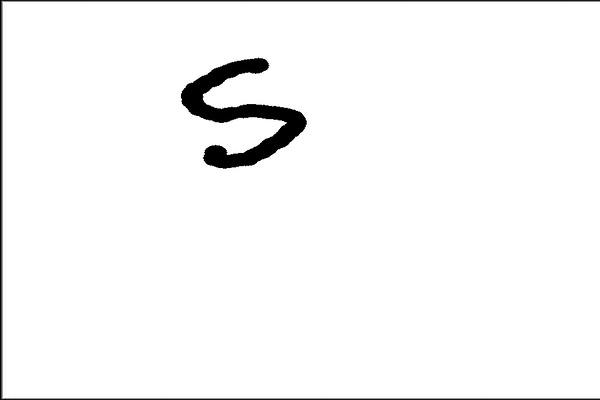S: (176, 53, 310, 174)
